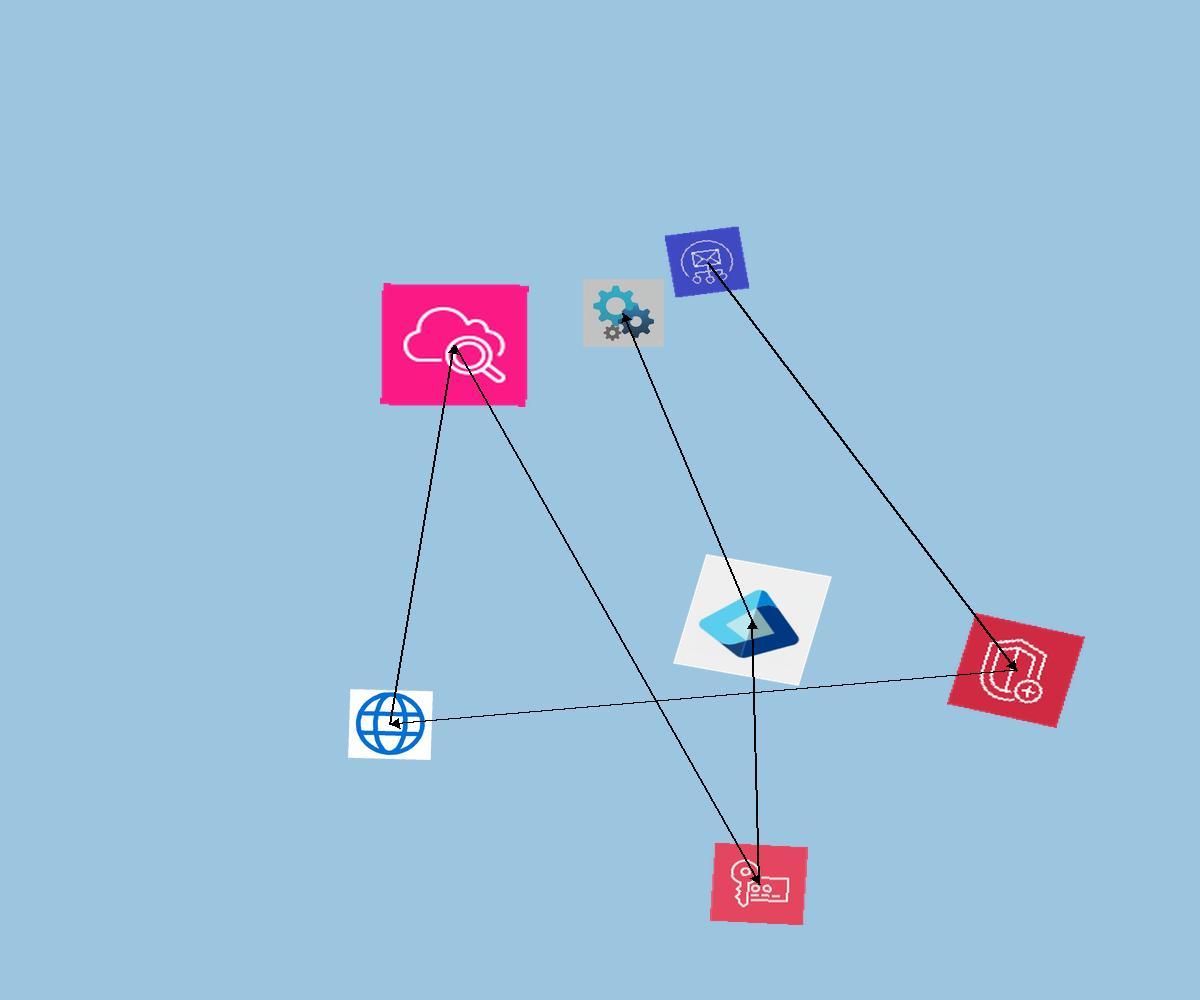AWS-CloudWatch: (380, 283, 529, 407)
AWS-Key-Management-Service: (709, 842, 809, 926)
AWS-Shield: (947, 613, 1085, 728)
AWS-Simple-Email-Service: (664, 226, 750, 298)
Azure_api: (583, 279, 664, 347)
Azure_http: (348, 689, 433, 760)
Azure_microsoft_entra: (673, 554, 832, 686)
